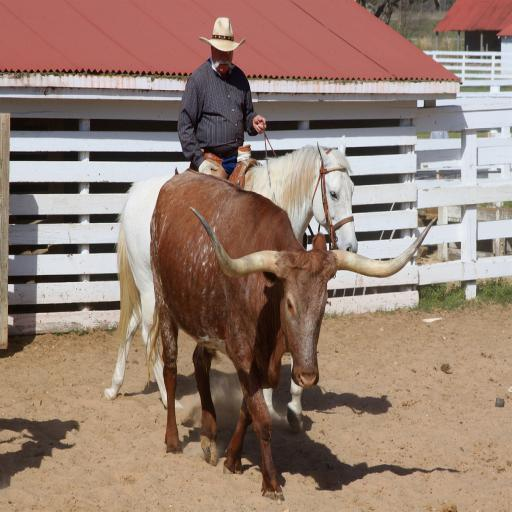Horse: (104, 134, 360, 436)
